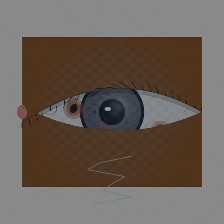foreign_body_visible: (139, 114, 181, 147)
